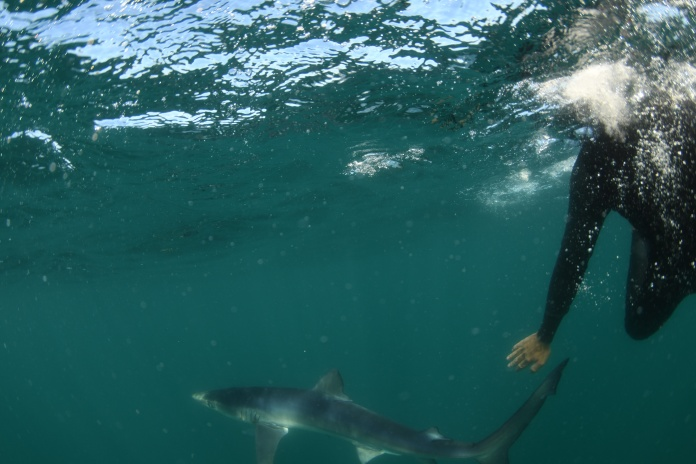Azul: (176, 356, 613, 464)
